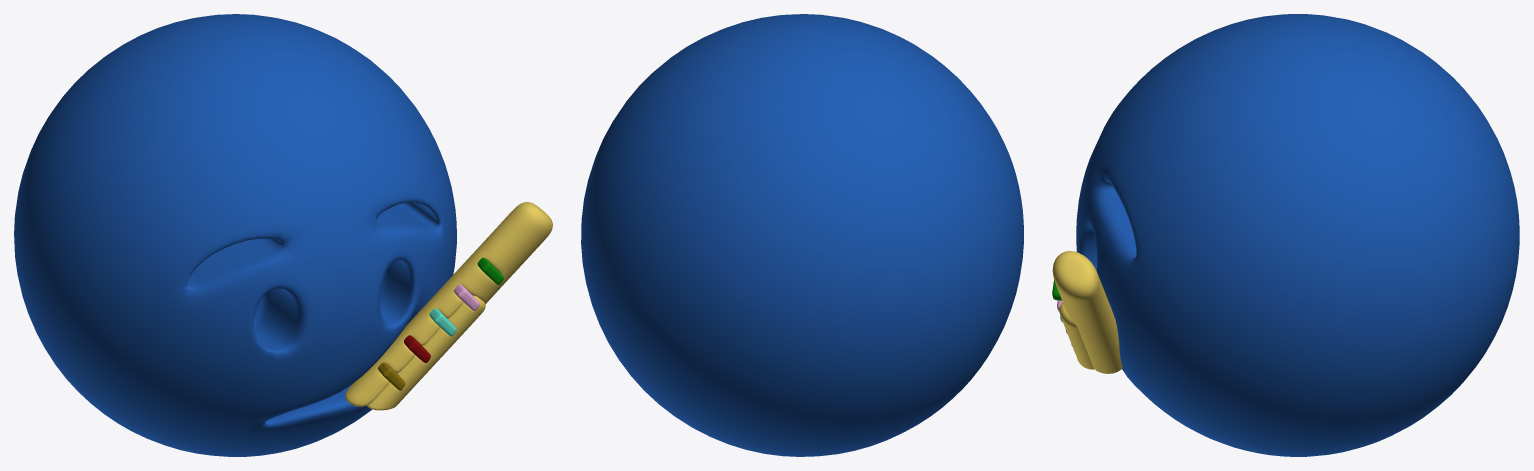
File: thermomether.obj
The picture shows the model from 3 angles, left to right: view 1: azimuth 30°, elevation 25°; view 2: azimuth 150°, elevation 25°; view 3: azimuth 270°, elevation 25°; orthographic projection.
Parts seen in each view (by area): view 1: Group9951, Group15222, Group55287; view 2: Group9951; view 3: Group9951, Group15222, Group55287.
Boxes of the visible parts, left/top/right/bottom form: Group9951: left=14, top=14, right=456, bottom=456; Group15222: left=345, top=202, right=552, bottom=406; Group55287: left=367, top=295, right=485, bottom=410; Group9951: left=581, top=14, right=1023, bottom=456; Group9951: left=1076, top=14, right=1519, bottom=456; Group15222: left=1052, top=251, right=1122, bottom=373; Group55287: left=1059, top=302, right=1094, bottom=369.
Size of the model in its own units: 24.75 by 23.96 by 25.25.
